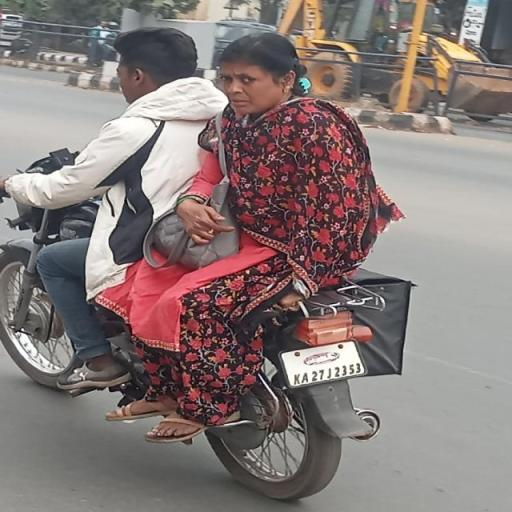bike: (2, 13, 430, 501)
numberplate: (278, 332, 374, 391)
withouthelmet: (117, 30, 194, 94), (224, 36, 298, 102)
